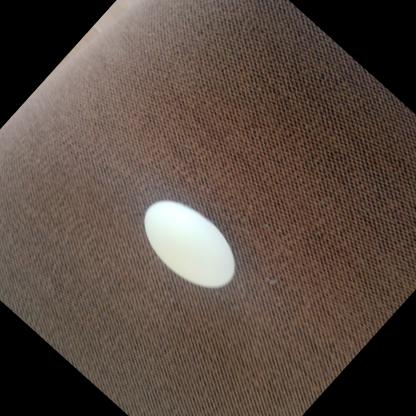Tabel Tennis: (121, 178, 256, 310)
